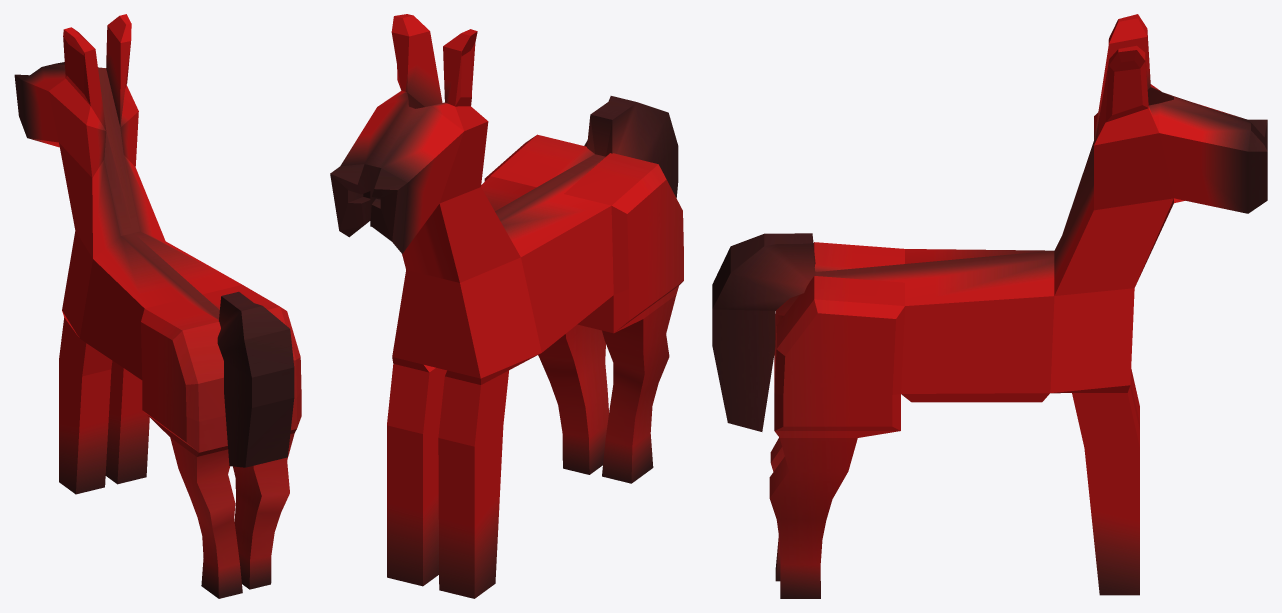
The model's file is Horse.fbx.
The picture shows the model from 3 angles, left to right: view 1: azimuth 30°, elevation 25°; view 2: azimuth 150°, elevation 25°; view 3: azimuth 270°, elevation 25°; orthographic projection. The views are drawn at different scales.
Visible parts, largest first — view 1: polySurface1; view 2: polySurface1; view 3: polySurface1.
Part boxes in pixels (left/top/right/bottom): polySurface1: left=14, top=14, right=301, bottom=598; polySurface1: left=330, top=14, right=683, bottom=598; polySurface1: left=712, top=14, right=1267, bottom=598.
Bounding box in the file's own units: 1.27 × 4.9 × 4.47.
1 material, 1 textured.
